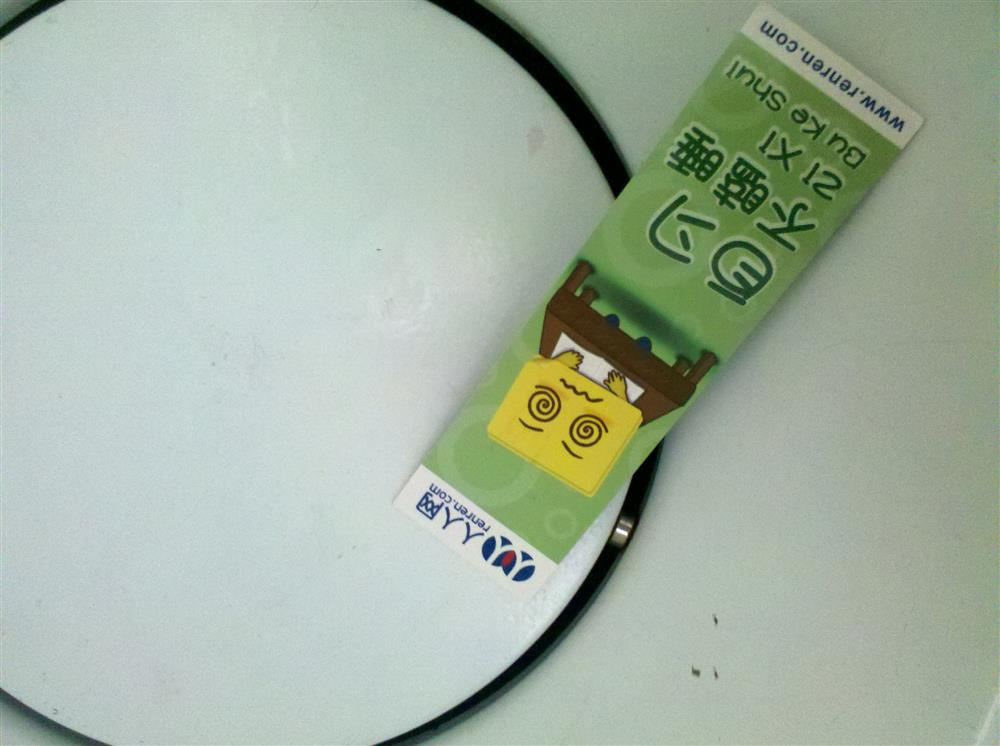Renren_bookmark: (392, 3, 923, 602)
